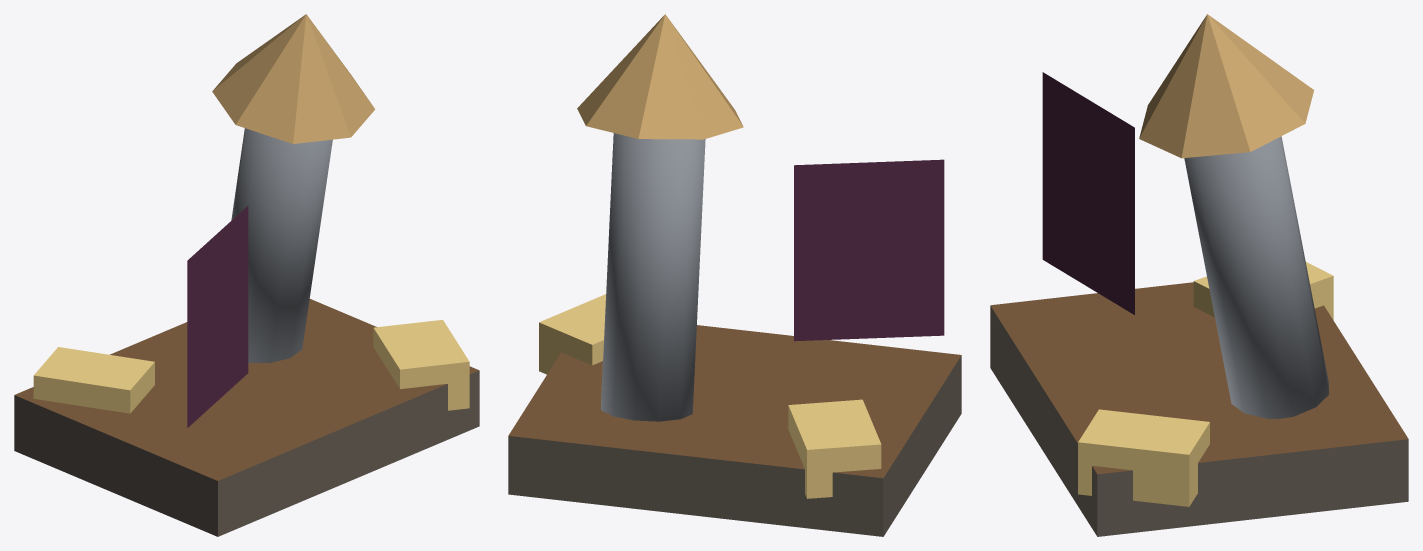
Rendered from blocks.glb.
The picture shows the model from 3 angles, left to right: view 1: azimuth 30°, elevation 25°; view 2: azimuth 150°, elevation 25°; view 3: azimuth 270°, elevation 25°; orthographic projection. The views are drawn at different scales.
Visible parts, largest first — view 1: Base, Pillar, Cap, Banner, BlockA, BlockB; view 2: Base, Banner, Pillar, Cap, BlockA, BlockB; view 3: Base, Pillar, Banner, Cap, BlockB, BlockA.
Boxes of the visible parts, bbox=[...] form: Base: bbox=[14, 299, 479, 536]; Pillar: bbox=[231, 128, 332, 362]; Cap: bbox=[212, 14, 375, 143]; Banner: bbox=[187, 206, 248, 427]; BlockA: bbox=[33, 347, 154, 413]; BlockB: bbox=[373, 320, 469, 410]; Base: bbox=[508, 325, 961, 536]; Banner: bbox=[794, 159, 944, 341]; Pillar: bbox=[601, 133, 705, 421]; Cap: bbox=[577, 14, 743, 139]; BlockA: bbox=[788, 399, 881, 498]; BlockB: bbox=[539, 294, 605, 374]; Base: bbox=[990, 282, 1408, 536]; Pillar: bbox=[1184, 136, 1328, 418]; Banner: bbox=[1042, 72, 1134, 314]; Cap: bbox=[1139, 14, 1314, 158]; BlockB: bbox=[1078, 409, 1209, 506]; BlockA: bbox=[1193, 262, 1333, 319].
Size of the model in its own units: 2.55 by 2.62 by 2.18.
